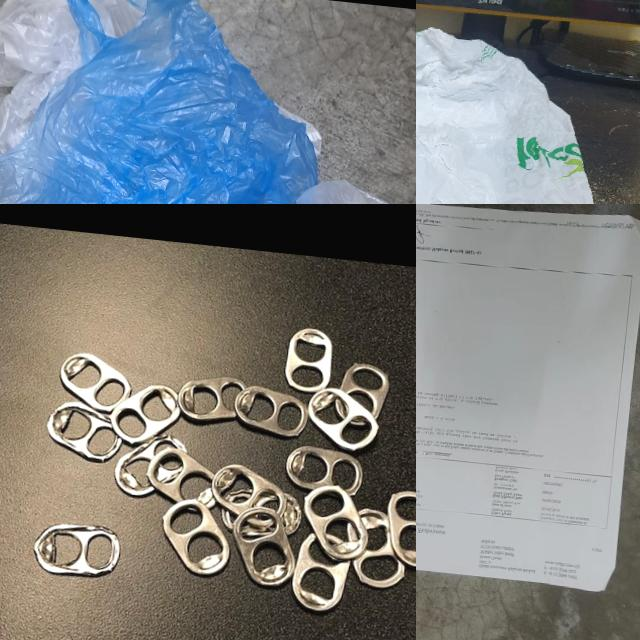aba de lata: (156, 495, 233, 579), (226, 504, 298, 591), (341, 505, 412, 592), (298, 481, 374, 562), (30, 518, 123, 584), (42, 396, 127, 464), (111, 431, 189, 503), (288, 530, 352, 615), (107, 380, 184, 450), (304, 385, 381, 453), (54, 350, 134, 414), (208, 462, 288, 526), (145, 446, 222, 511), (174, 370, 255, 428), (283, 444, 366, 497), (230, 384, 309, 439), (332, 360, 392, 428), (284, 326, 336, 394), (380, 489, 416, 571)
papel: (416, 204, 640, 584)
sacola plástica: (0, 0, 334, 204), (416, 0, 624, 204), (0, 0, 175, 182)
